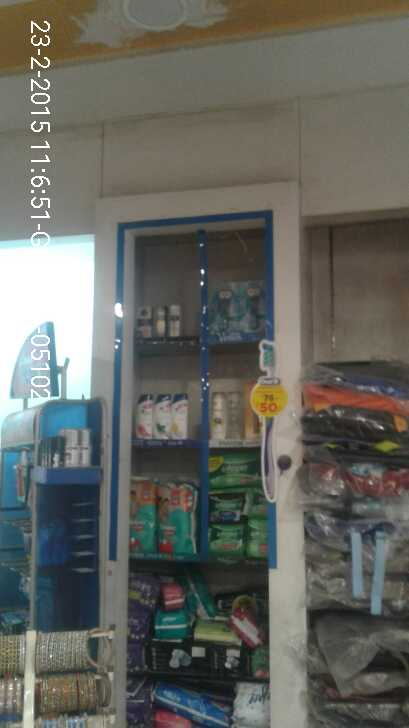venus: (209, 283, 240, 332), (240, 282, 266, 332)
